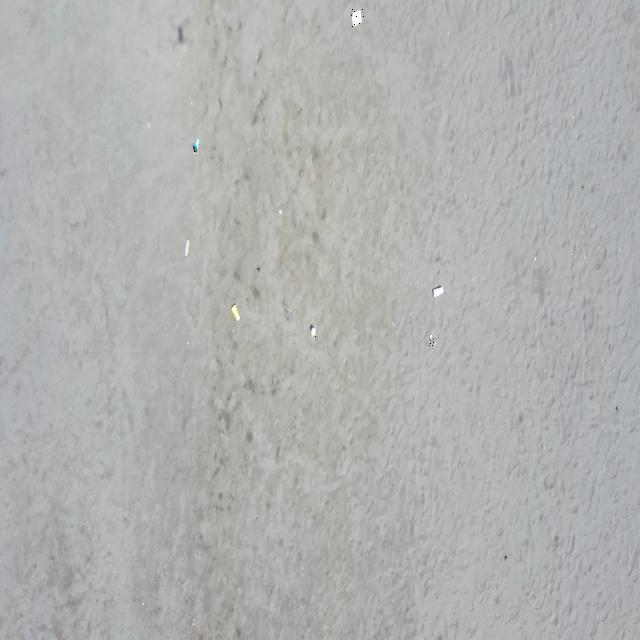take-away-containers: (351, 9, 364, 28)
takeaway-cup: (232, 302, 242, 324), (183, 236, 191, 259), (427, 330, 437, 347), (432, 285, 444, 299), (192, 138, 201, 154), (310, 324, 317, 337)
